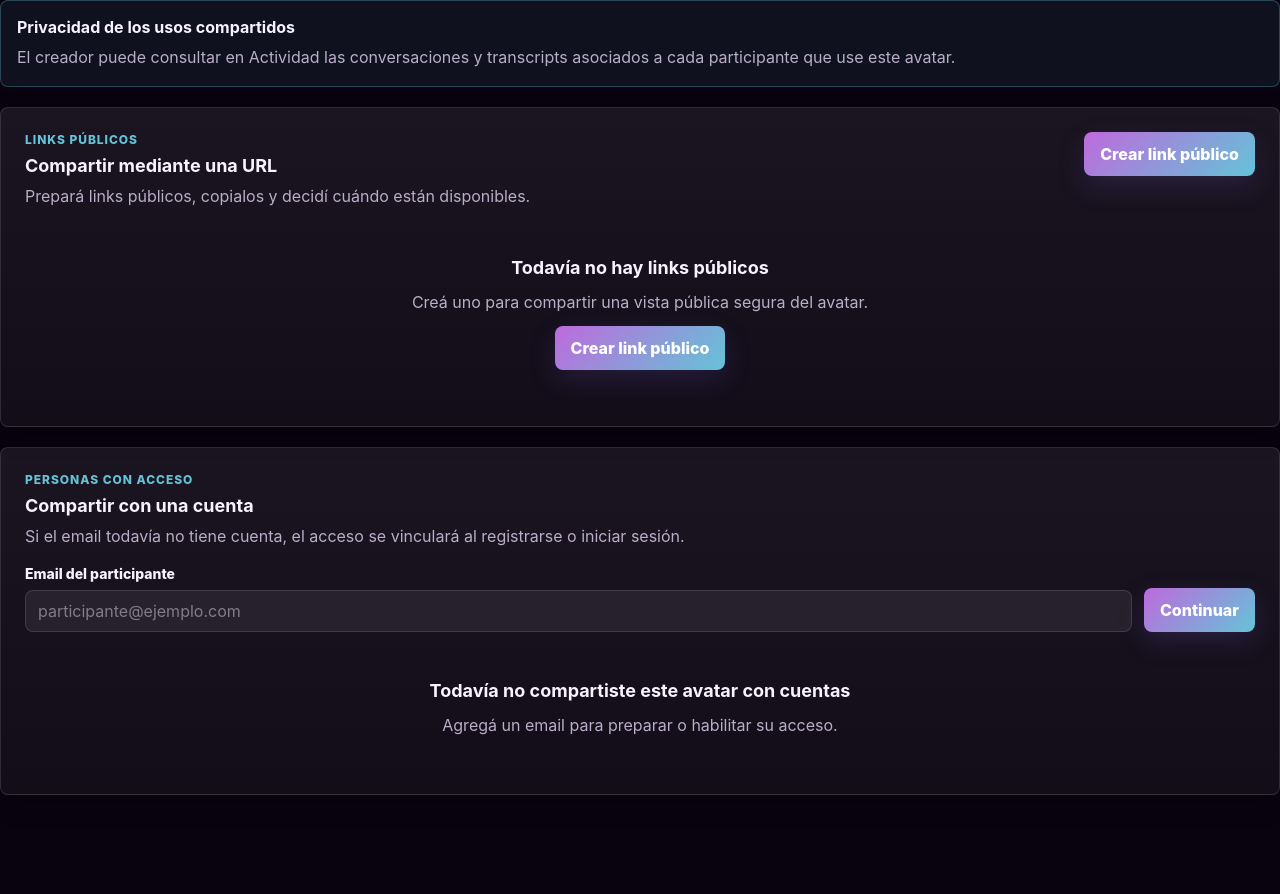
it: sharing and limits toast feedback › announces link creation
Click the button "Crear link público" in the row of "Compartir mediante una URL" at [1170, 154], box x1=1084 y1=132 x2=1255 y2=176
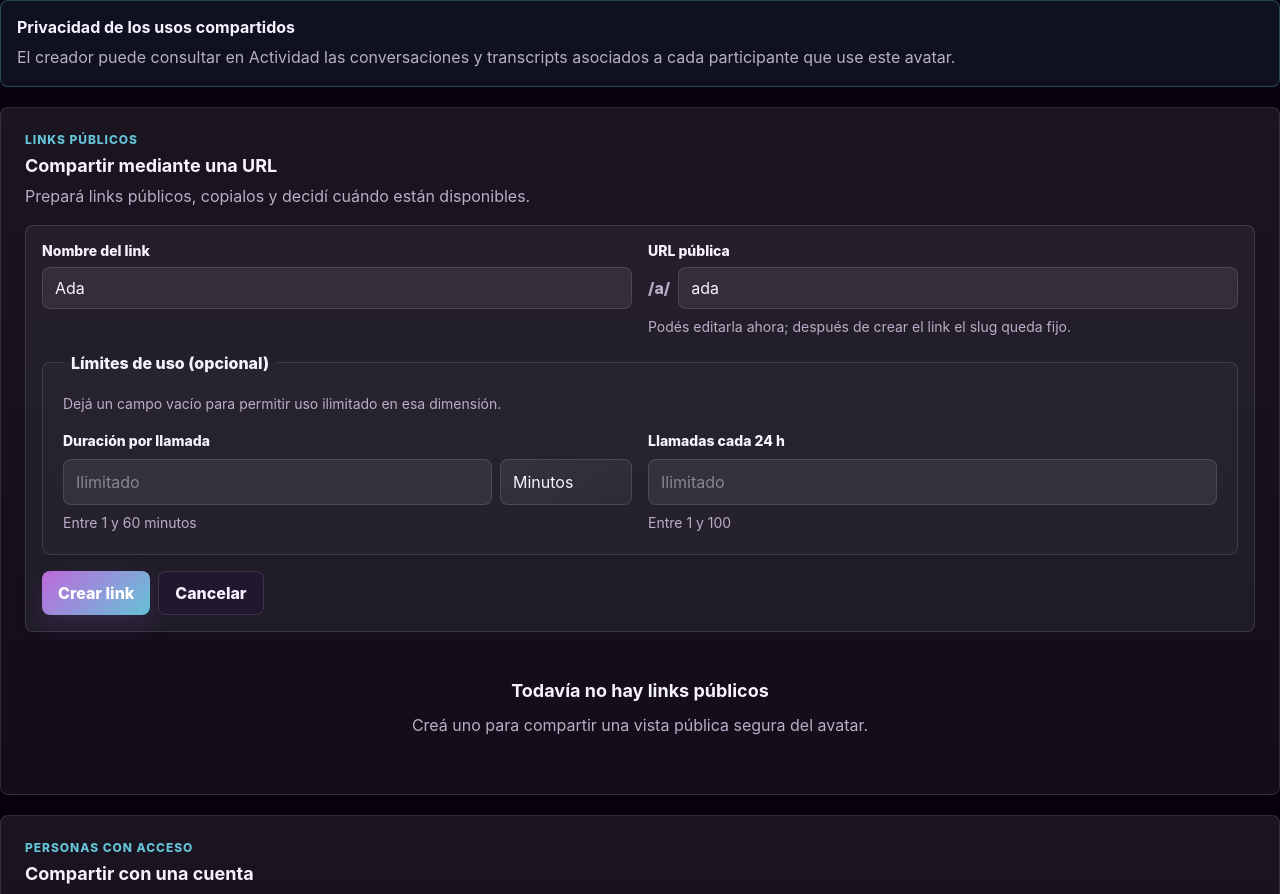
Click the button "Crear link" at [96, 593], box x1=42 y1=571 x2=150 y2=615
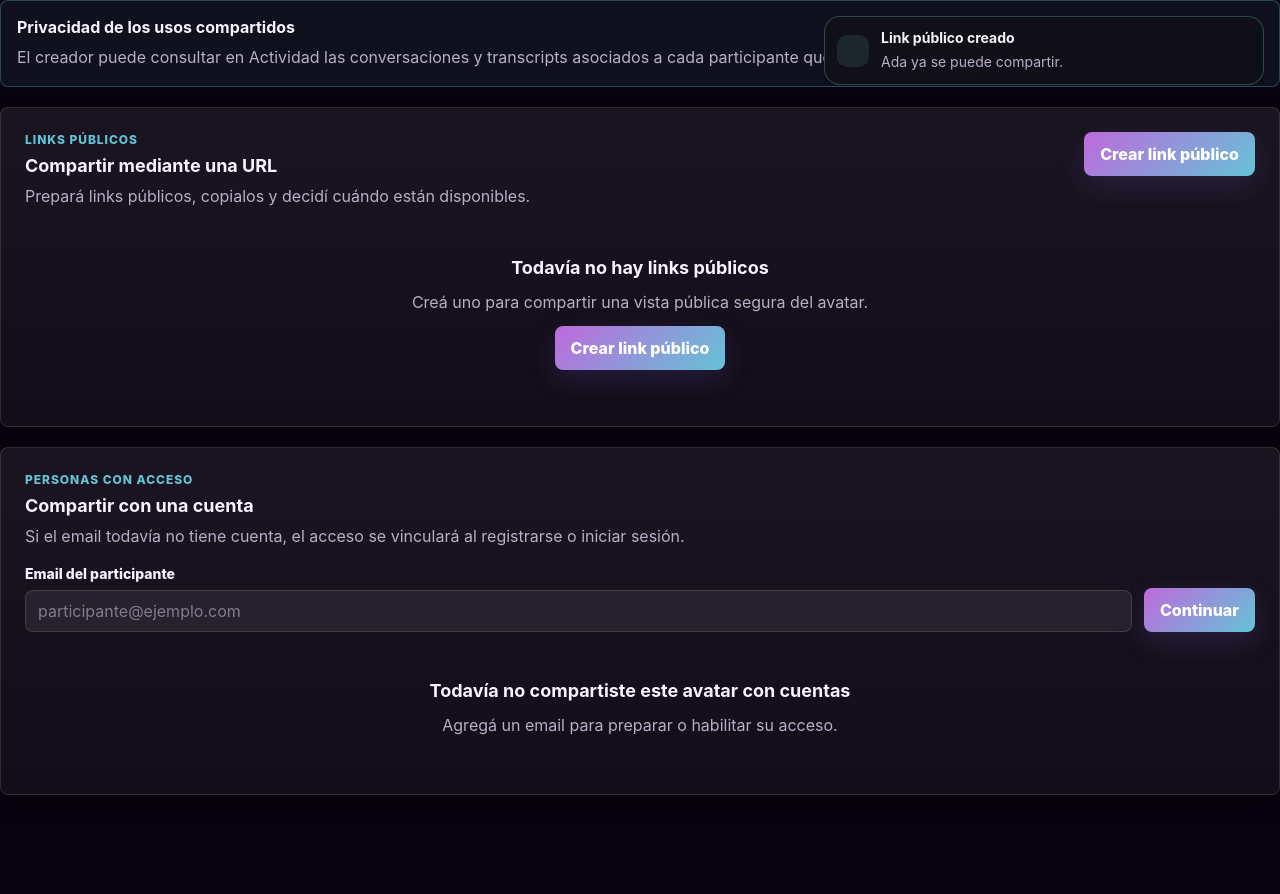
Now the message shows "Link público creado", box x1=881 y1=29 x2=1015 y2=46
